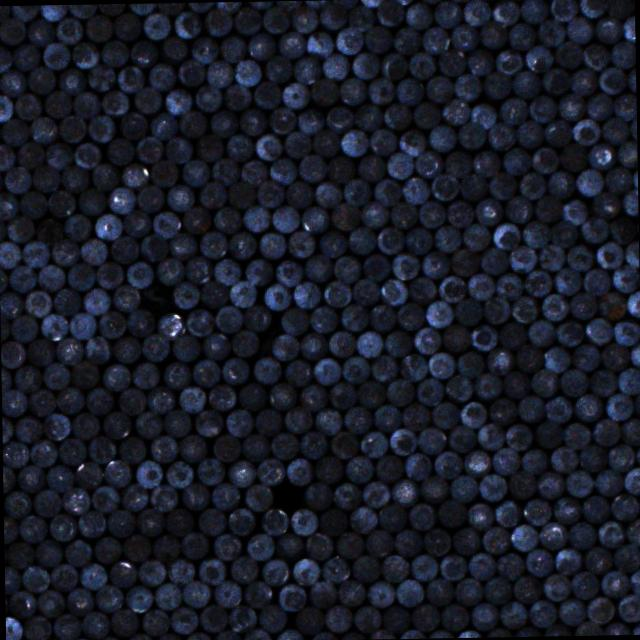tool: (596, 290, 626, 320), (202, 7, 232, 36), (172, 10, 201, 39), (26, 16, 54, 46), (232, 4, 260, 34), (148, 110, 176, 140), (330, 200, 358, 230), (302, 480, 330, 510), (348, 504, 376, 534), (274, 532, 302, 562), (470, 600, 498, 630), (256, 179, 284, 208), (590, 190, 619, 218), (449, 248, 478, 276), (493, 272, 522, 300), (85, 386, 113, 415), (146, 385, 174, 414), (530, 368, 558, 397), (559, 367, 587, 396), (298, 429, 326, 458), (329, 430, 357, 459), (432, 449, 460, 478), (390, 478, 418, 507), (419, 473, 447, 502), (538, 520, 566, 549), (582, 545, 610, 574), (612, 542, 640, 571), (80, 610, 108, 639), (439, 602, 468, 630), (293, 606, 322, 634), (612, 263, 639, 293), (442, 323, 469, 353), (118, 386, 145, 416), (112, 12, 140, 40), (524, 44, 552, 72), (580, 42, 608, 70), (598, 66, 626, 94), (59, 164, 87, 192), (90, 162, 118, 190), (558, 142, 586, 170), (18, 190, 46, 218), (284, 180, 312, 208), (488, 172, 516, 200), (574, 168, 602, 196), (240, 204, 268, 232), (388, 200, 416, 228), (521, 219, 549, 247), (348, 226, 376, 254), (390, 252, 418, 280), (66, 262, 94, 290), (184, 255, 212, 283), (466, 272, 494, 300), (214, 304, 242, 332), (280, 307, 308, 335), (230, 328, 258, 356), (270, 332, 298, 360), (424, 300, 452, 328), (540, 293, 568, 321), (497, 321, 525, 349), (526, 318, 554, 346), (584, 316, 612, 344), (70, 360, 98, 388), (56, 386, 84, 414), (252, 356, 280, 384), (312, 356, 340, 384), (456, 350, 484, 378), (600, 342, 628, 370), (356, 379, 384, 407), (444, 374, 472, 402), (472, 371, 500, 399), (102, 410, 130, 438), (194, 408, 222, 436), (342, 405, 370, 433), (572, 393, 600, 421), (604, 392, 632, 420), (240, 432, 268, 460), (416, 426, 444, 454), (534, 419, 562, 447), (73, 460, 101, 488), (284, 457, 312, 485), (314, 455, 342, 483), (344, 454, 372, 482), (374, 454, 402, 482), (491, 447, 519, 475), (18, 514, 46, 542), (90, 485, 118, 513), (48, 512, 76, 540), (106, 508, 134, 536), (244, 482, 272, 510), (332, 481, 360, 509), (478, 472, 506, 500), (535, 470, 563, 498), (564, 469, 592, 497), (594, 468, 622, 496), (226, 507, 254, 535), (318, 507, 346, 535), (378, 502, 406, 530), (180, 530, 208, 558), (212, 532, 240, 560), (567, 521, 595, 549), (78, 562, 106, 590), (438, 552, 466, 580), (496, 552, 524, 580), (524, 548, 552, 576), (36, 588, 64, 616), (180, 578, 208, 606), (198, 604, 226, 632), (336, 578, 364, 606), (424, 576, 452, 604), (585, 595, 613, 623), (352, 604, 380, 632), (410, 602, 438, 630), (181, 206, 210, 233), (225, 408, 252, 437), (87, 434, 114, 463), (416, 376, 442, 406), (103, 458, 129, 488), (84, 14, 111, 42), (290, 5, 317, 33), (318, 1, 346, 28), (432, 0, 460, 27), (334, 26, 362, 53), (421, 26, 448, 54), (27, 66, 54, 94), (147, 62, 174, 90), (292, 56, 320, 83), (280, 80, 307, 108), (382, 101, 410, 128), (339, 128, 366, 156), (3, 165, 30, 193), (298, 154, 325, 182), (106, 186, 134, 213), (197, 180, 224, 208), (400, 176, 428, 203), (430, 173, 458, 200), (6, 214, 33, 242), (34, 218, 62, 245), (93, 212, 121, 239), (151, 210, 179, 237), (212, 205, 240, 232), (270, 205, 298, 232), (359, 200, 386, 228), (51, 238, 78, 266), (109, 236, 137, 263), (376, 226, 404, 253), (432, 225, 460, 252), (95, 260, 122, 288), (274, 259, 302, 286), (172, 280, 199, 308), (262, 283, 290, 310), (292, 280, 319, 308), (322, 279, 350, 306), (379, 278, 406, 306), (537, 243, 565, 270), (553, 267, 580, 295), (582, 268, 609, 296), (141, 333, 168, 361), (84, 336, 111, 364), (156, 311, 183, 339), (186, 308, 213, 336), (171, 334, 199, 361), (568, 291, 595, 319), (14, 364, 41, 392), (27, 388, 54, 416), (162, 361, 189, 389), (399, 353, 426, 381), (515, 344, 542, 372), (570, 344, 598, 371), (299, 382, 326, 410), (501, 370, 528, 398), (42, 412, 70, 439), (516, 395, 544, 422), (117, 436, 144, 464), (149, 434, 176, 462), (178, 433, 205, 461), (592, 418, 619, 446), (16, 464, 44, 491), (45, 464, 72, 492), (165, 460, 192, 488), (196, 456, 223, 484), (227, 458, 254, 486), (256, 456, 283, 484), (403, 452, 430, 480), (463, 449, 490, 477), (578, 444, 606, 471), (606, 444, 634, 471), (3, 490, 30, 518), (33, 488, 60, 516), (61, 487, 89, 514), (76, 509, 104, 536), (149, 484, 176, 512), (180, 482, 208, 509), (210, 482, 238, 509), (449, 474, 476, 502), (165, 507, 192, 535), (408, 502, 435, 530), (34, 538, 61, 566), (246, 532, 273, 560), (437, 499, 464, 527), (522, 498, 550, 525), (552, 496, 580, 523), (581, 494, 608, 522), (610, 492, 637, 520), (365, 528, 392, 556), (394, 528, 421, 556), (510, 522, 537, 550), (21, 564, 48, 592), (49, 562, 76, 590), (198, 557, 225, 585), (380, 554, 408, 581), (409, 552, 436, 580), (467, 551, 494, 579), (52, 612, 79, 640), (95, 584, 122, 612), (125, 584, 152, 612), (140, 608, 168, 635), (227, 604, 254, 632), (258, 604, 285, 632), (454, 576, 481, 604), (483, 576, 510, 604), (513, 574, 540, 602), (570, 570, 597, 598), (557, 597, 584, 625), (528, 599, 555, 627), (499, 600, 526, 628), (323, 604, 351, 631), (276, 29, 302, 58), (85, 64, 114, 90), (338, 76, 364, 105), (579, 216, 608, 242), (508, 469, 534, 498), (135, 508, 164, 534), (341, 302, 366, 332), (261, 5, 288, 32), (364, 25, 391, 52), (479, 20, 506, 47), (233, 58, 260, 85), (437, 48, 464, 75), (495, 48, 522, 75), (442, 97, 469, 124), (499, 96, 526, 123), (121, 162, 148, 189), (150, 159, 177, 186), (211, 158, 238, 185), (587, 142, 614, 169), (77, 188, 104, 215), (417, 200, 444, 227), (474, 197, 501, 224), (534, 195, 561, 222), (139, 233, 166, 260), (508, 245, 535, 272), (361, 253, 388, 280), (332, 255, 359, 282), (82, 287, 109, 314), (68, 311, 95, 338), (55, 337, 82, 364), (355, 329, 382, 356), (613, 318, 640, 345), (207, 383, 234, 410), (268, 382, 295, 409), (328, 381, 355, 408), (359, 429, 386, 456), (447, 424, 474, 451), (476, 422, 503, 449), (169, 606, 196, 633), (278, 583, 305, 610), (366, 580, 393, 607), (55, 16, 81, 44), (143, 12, 169, 40), (462, 0, 490, 26), (101, 38, 127, 66), (392, 26, 418, 54), (450, 23, 476, 51), (507, 22, 533, 50), (566, 15, 592, 43), (594, 17, 622, 43), (57, 68, 85, 94), (115, 66, 143, 92), (176, 58, 202, 86), (206, 58, 232, 86), (350, 52, 378, 78), (44, 90, 70, 118), (512, 70, 538, 98), (354, 104, 382, 130), (470, 101, 496, 129), (586, 92, 612, 120), (224, 134, 252, 160), (32, 164, 58, 192), (182, 158, 208, 186), (268, 156, 296, 182), (386, 151, 412, 179), (342, 177, 368, 205), (518, 170, 544, 198), (546, 170, 572, 198), (122, 210, 150, 236), (462, 222, 488, 250), (492, 222, 518, 250), (8, 264, 34, 292), (52, 288, 80, 314), (112, 284, 138, 312), (227, 280, 255, 306), (304, 253, 330, 281), (39, 313, 67, 339), (128, 308, 154, 336), (309, 306, 337, 332), (300, 331, 326, 359), (328, 329, 354, 357), (368, 303, 394, 331), (396, 302, 422, 330), (454, 296, 480, 324), (511, 294, 537, 322), (102, 363, 128, 391), (222, 356, 248, 384), (192, 358, 218, 386), (386, 378, 412, 406), (590, 368, 616, 396), (30, 438, 56, 466), (58, 437, 84, 465), (135, 410, 161, 438), (254, 407, 280, 435), (284, 406, 312, 432), (373, 404, 399, 432), (402, 402, 428, 430), (459, 400, 485, 428), (212, 433, 238, 461), (270, 431, 296, 459), (388, 426, 414, 454), (135, 459, 161, 487), (362, 480, 388, 508), (198, 507, 224, 535), (260, 506, 286, 534), (64, 538, 90, 566), (336, 530, 362, 558), (466, 502, 492, 530), (422, 527, 448, 555), (452, 526, 478, 554), (481, 526, 509, 552), (596, 519, 622, 547), (166, 558, 194, 584), (292, 557, 318, 585), (352, 554, 378, 582), (554, 546, 580, 574), (8, 589, 34, 617), (66, 588, 92, 616), (110, 608, 136, 636), (154, 581, 180, 609), (213, 578, 239, 606), (396, 578, 422, 606), (542, 572, 568, 600), (600, 570, 628, 596), (373, 177, 398, 206), (346, 4, 372, 31), (405, 1, 431, 28), (12, 43, 38, 70), (42, 41, 68, 68), (190, 37, 217, 63), (305, 31, 331, 58), (264, 55, 290, 82), (380, 51, 406, 78), (408, 51, 434, 78), (554, 40, 580, 67), (610, 41, 636, 68), (13, 93, 40, 119), (72, 91, 98, 118), (133, 86, 159, 113), (424, 76, 451, 102), (570, 68, 596, 95), (88, 115, 114, 142), (210, 110, 236, 137), (529, 95, 555, 122), (558, 93, 584, 120), (107, 138, 133, 165), (253, 134, 280, 160), (571, 118, 598, 144), (357, 154, 384, 180), (415, 150, 441, 177), (473, 150, 499, 177), (503, 148, 529, 175), (48, 189, 74, 216), (136, 185, 162, 212), (166, 184, 192, 211), (228, 182, 255, 208), (314, 181, 341, 207), (458, 174, 485, 200), (604, 166, 630, 193), (64, 213, 90, 240), (300, 205, 326, 232), (446, 200, 472, 227), (504, 195, 530, 222), (561, 198, 587, 225), (608, 216, 634, 243), (550, 220, 576, 247), (21, 240, 48, 266), (80, 237, 106, 264), (168, 232, 195, 258), (199, 231, 225, 258), (287, 230, 313, 257), (480, 248, 507, 274), (422, 251, 448, 278), (38, 263, 64, 290), (23, 290, 50, 316), (125, 261, 152, 287), (213, 258, 239, 285), (244, 258, 271, 284), (200, 280, 227, 306), (352, 278, 378, 305), (523, 270, 550, 296), (596, 241, 622, 268), (10, 314, 36, 341), (97, 310, 124, 336), (243, 304, 270, 330), (202, 332, 229, 358), (383, 330, 410, 356), (413, 326, 440, 352), (555, 320, 582, 346), (178, 386, 205, 412), (284, 359, 311, 385), (341, 356, 368, 382), (370, 354, 396, 381), (427, 351, 453, 378), (486, 347, 512, 374), (542, 346, 569, 372), (15, 416, 42, 442), (2, 440, 28, 467), (163, 409, 189, 436), (432, 401, 458, 428), (488, 398, 515, 424), (504, 423, 531, 449), (562, 422, 589, 448), (120, 484, 146, 511), (290, 508, 317, 534), (152, 534, 178, 561), (306, 532, 332, 559), (494, 499, 520, 526), (138, 559, 164, 586), (230, 556, 257, 582), (262, 558, 288, 585), (321, 556, 348, 582), (310, 580, 336, 607), (59, 114, 84, 142), (180, 110, 205, 138), (438, 274, 463, 302), (112, 337, 140, 362), (483, 295, 508, 323), (549, 447, 577, 472), (382, 604, 407, 632), (70, 40, 96, 66), (130, 40, 156, 66), (247, 33, 273, 59), (537, 19, 563, 45), (321, 52, 347, 78), (310, 78, 336, 104), (396, 78, 422, 104), (483, 72, 509, 98), (0, 118, 26, 144), (120, 113, 146, 139), (238, 108, 264, 134), (268, 107, 294, 133), (326, 106, 352, 132), (44, 142, 70, 168), (73, 142, 99, 168), (312, 130, 338, 156), (368, 128, 394, 154), (398, 128, 424, 154), (428, 124, 454, 150), (488, 122, 514, 148), (444, 151, 470, 177), (530, 146, 556, 172), (228, 232, 254, 258), (258, 232, 284, 258), (318, 231, 344, 257), (156, 258, 182, 284), (408, 276, 434, 302), (42, 362, 68, 388), (132, 362, 158, 388), (238, 382, 264, 408), (72, 412, 98, 438), (544, 396, 570, 422), (94, 536, 120, 562), (122, 534, 148, 560), (109, 560, 135, 586), (244, 580, 270, 606), (0, 17, 25, 44), (375, 0, 402, 25), (491, 0, 518, 25), (454, 73, 479, 100), (30, 116, 55, 143), (414, 101, 439, 128), (458, 122, 485, 147), (328, 156, 353, 183), (23, 615, 50, 640), (2, 388, 26, 416), (616, 593, 640, 621), (466, 49, 492, 74), (164, 88, 189, 114), (224, 85, 250, 110), (368, 76, 393, 102), (542, 68, 567, 94), (136, 136, 161, 162), (165, 136, 190, 162), (601, 116, 627, 141), (240, 160, 266, 185), (566, 244, 591, 270), (27, 338, 52, 364), (470, 324, 496, 349), (315, 408, 340, 434), (520, 448, 546, 473), (6, 542, 32, 567), (0, 69, 24, 96), (100, 90, 127, 114), (254, 81, 278, 108), (406, 228, 430, 255), (519, 0, 547, 23), (219, 36, 244, 61), (162, 36, 186, 62), (296, 110, 322, 134), (196, 134, 220, 160), (516, 120, 540, 146), (617, 366, 640, 393), (195, 86, 219, 111), (614, 93, 636, 120), (18, 142, 42, 166), (544, 120, 568, 144), (286, 130, 308, 156), (1, 340, 23, 366), (0, 291, 21, 318), (549, 0, 577, 20), (616, 140, 637, 166), (0, 240, 19, 268), (620, 417, 640, 443), (623, 466, 640, 494), (579, 0, 606, 17), (0, 191, 17, 218), (38, 4, 66, 20), (622, 187, 638, 215), (574, 620, 602, 636), (606, 0, 632, 17), (625, 518, 640, 546), (10, 5, 36, 21), (4, 565, 18, 593), (602, 621, 630, 635), (624, 240, 639, 266), (68, 4, 95, 18), (5, 615, 20, 640), (622, 14, 635, 42), (626, 290, 640, 316), (243, 627, 270, 640), (0, 144, 14, 169), (544, 623, 570, 636), (2, 465, 14, 493), (212, 628, 240, 640), (4, 515, 16, 542), (628, 567, 640, 594), (157, 2, 183, 14), (275, 628, 301, 640), (128, 3, 154, 14), (213, 2, 240, 12), (0, 94, 10, 121), (97, 4, 123, 14), (0, 45, 10, 71)
tool_b: (136, 280, 174, 312)
void: (269, 483, 303, 509)
